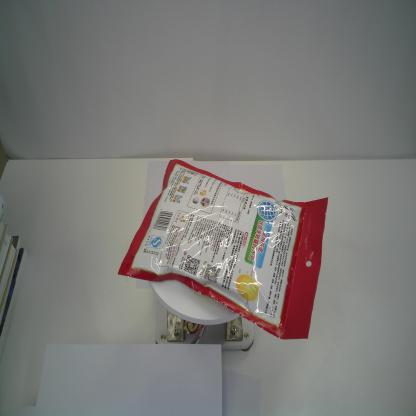Instant Drink: (117, 157, 330, 341)
